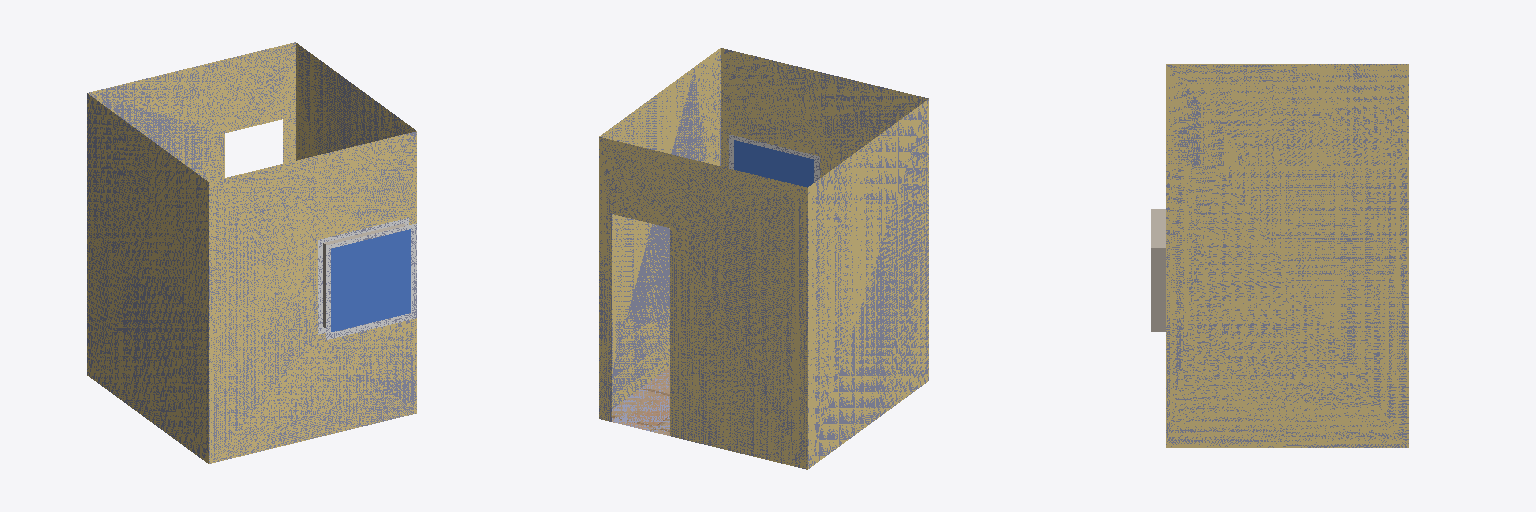
3 renders of one model, left to right at view 1: azimuth 30°, elevation 25°; view 2: azimuth 150°, elevation 25°; view 3: azimuth 270°, elevation 25°, orthographic.
Parts seen in each view (by area): view 1: Mesh5 DES013 Model, Mesh1 Group1 DES013 Model; view 2: Mesh5 DES013 Model, Mesh1 Group1 DES013 Model; view 3: Mesh5 DES013 Model, Mesh1 Group1 DES013 Model.
Boxes of the visible parts, x1=… form: Mesh5 DES013 Model: x1=87, y1=42, x2=416, y2=463; Mesh1 Group1 DES013 Model: x1=318, y1=218, x2=416, y2=339; Mesh5 DES013 Model: x1=599, y1=48, x2=928, y2=469; Mesh1 Group1 DES013 Model: x1=729, y1=134, x2=819, y2=187; Mesh5 DES013 Model: x1=1166, y1=64, x2=1408, y2=447; Mesh1 Group1 DES013 Model: x1=1151, y1=209, x2=1165, y2=331.
Size of the model in its own units: 2.32 by 3 by 2.49.
Materials: 6 (1 with a texture image).